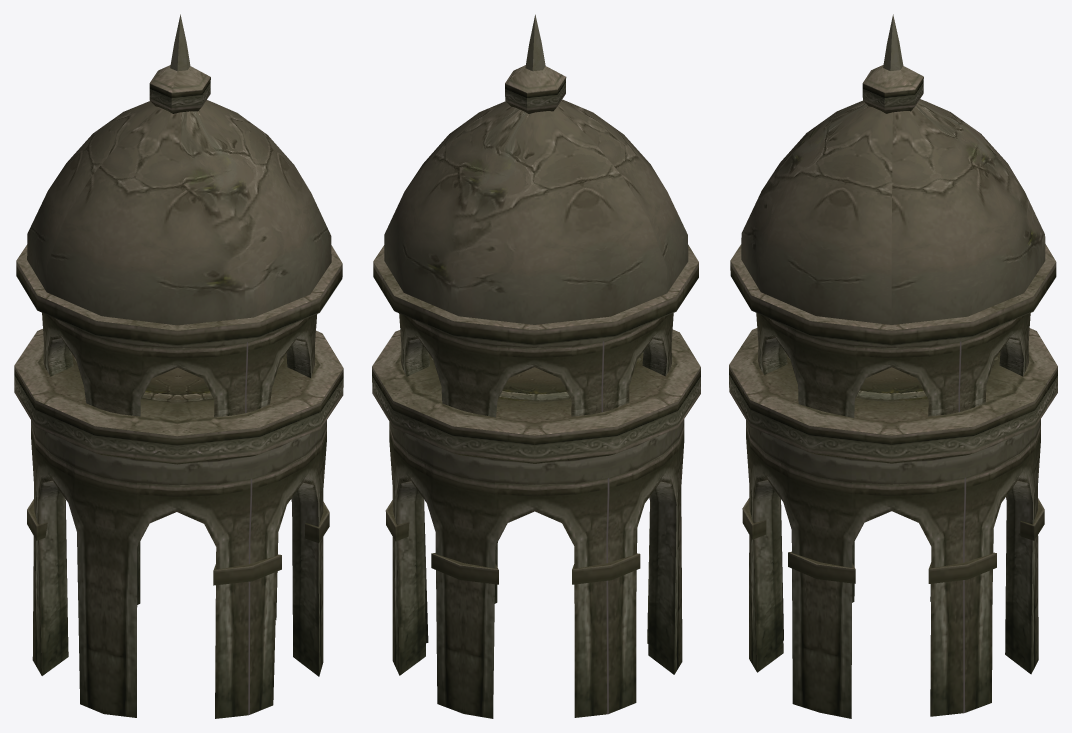
3 renders of one model, left to right at view 1: azimuth 30°, elevation 25°; view 2: azimuth 150°, elevation 25°; view 3: azimuth 270°, elevation 25°, orthographic.
Parts seen in each view (by area): view 1: fx_wj8; view 2: fx_wj8; view 3: fx_wj8.
Part boxes in pixels (<box>): fx_wj8: <box>14,14,343,718</box>; fx_wj8: <box>372,14,700,718</box>; fx_wj8: <box>729,14,1057,718</box>.
Size of the model in its own units: 374 by 812 by 374.
1 material, 1 textured.
